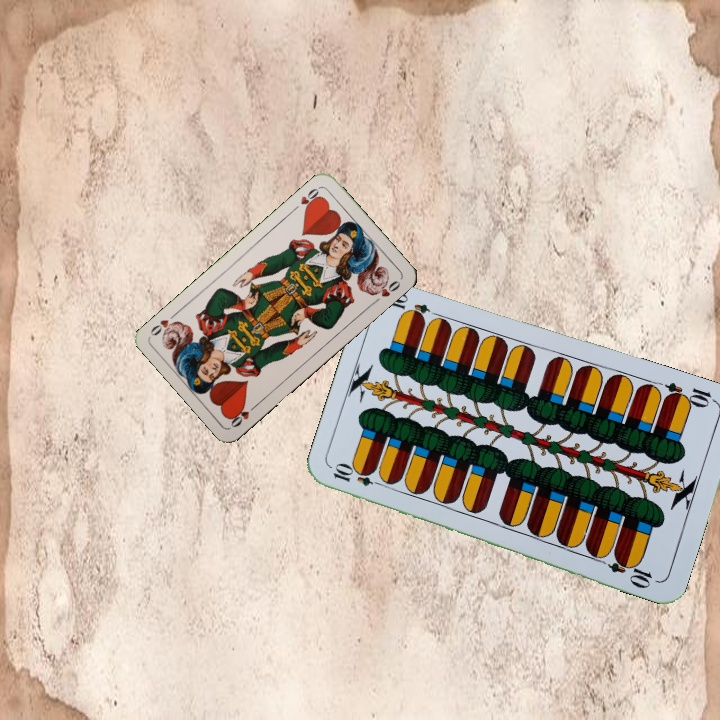E10: (660, 378, 719, 411), (329, 462, 388, 490)
HO: (289, 183, 324, 214), (226, 399, 261, 430)
